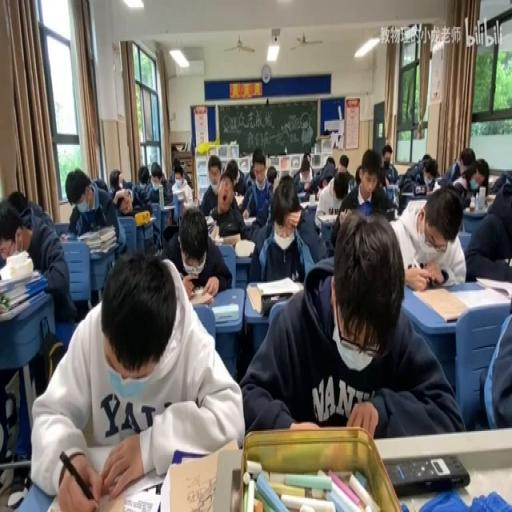calculator: (161, 441, 240, 512), (57, 461, 162, 512), (451, 284, 510, 314), (256, 274, 302, 294), (432, 266, 458, 287), (186, 288, 215, 306), (212, 302, 238, 322), (246, 283, 262, 313), (234, 238, 256, 256), (208, 223, 226, 243), (133, 215, 155, 226), (315, 213, 338, 222), (234, 194, 246, 208), (242, 215, 256, 226), (386, 181, 400, 192), (181, 199, 196, 209), (297, 189, 309, 201), (58, 232, 71, 242), (205, 215, 216, 226), (176, 188, 186, 200), (486, 193, 496, 205), (414, 184, 426, 194), (300, 199, 311, 209), (434, 176, 443, 188), (160, 204, 174, 210)
paper: (32, 250, 243, 508), (242, 212, 460, 439), (0, 193, 76, 330), (162, 205, 230, 297), (462, 170, 512, 284), (66, 168, 125, 259), (481, 306, 512, 429), (329, 178, 366, 250), (240, 150, 273, 228), (441, 145, 478, 196), (400, 154, 442, 198), (200, 154, 228, 219), (145, 161, 170, 205), (294, 155, 318, 196), (378, 142, 398, 184), (368, 184, 394, 216), (226, 156, 246, 196), (168, 156, 190, 192), (7, 189, 30, 219), (488, 168, 511, 195), (336, 152, 354, 186), (474, 164, 489, 188), (266, 164, 278, 192), (108, 168, 122, 190), (138, 165, 150, 185), (93, 176, 107, 192), (354, 165, 362, 185), (452, 161, 462, 176), (325, 156, 334, 170), (321, 176, 330, 188), (249, 164, 255, 179), (421, 154, 430, 162)
person: (386, 454, 470, 496), (260, 292, 294, 314)
